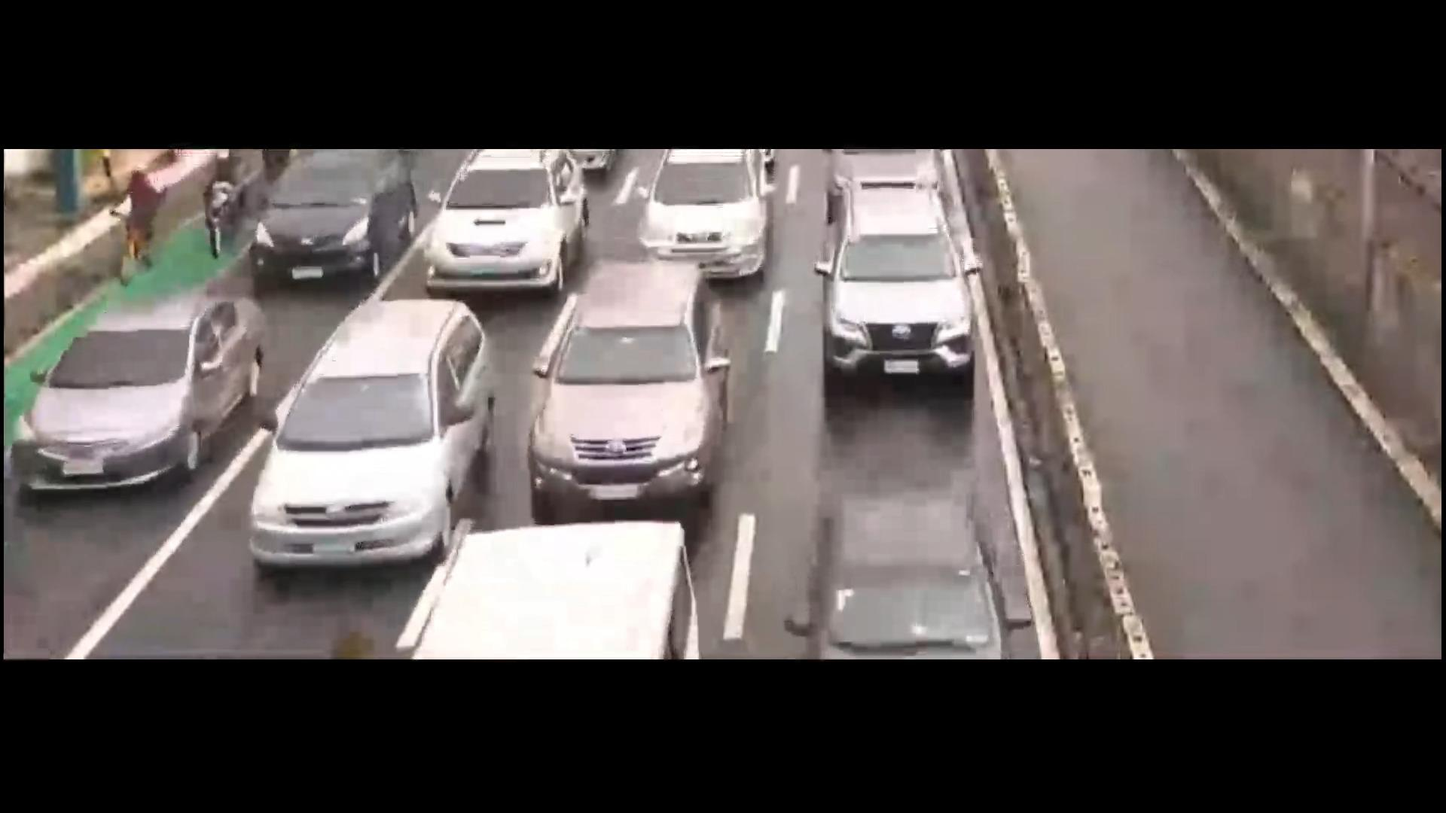Bicycle: (92, 164, 169, 301)
Motorcycle: (192, 132, 254, 262)
Multicab: (378, 514, 712, 662)
SUV: (256, 305, 501, 574), (533, 262, 725, 525), (800, 181, 983, 412), (422, 151, 593, 294), (249, 147, 410, 277), (629, 149, 774, 282)
Sedan: (6, 284, 273, 501), (808, 480, 1024, 653)
